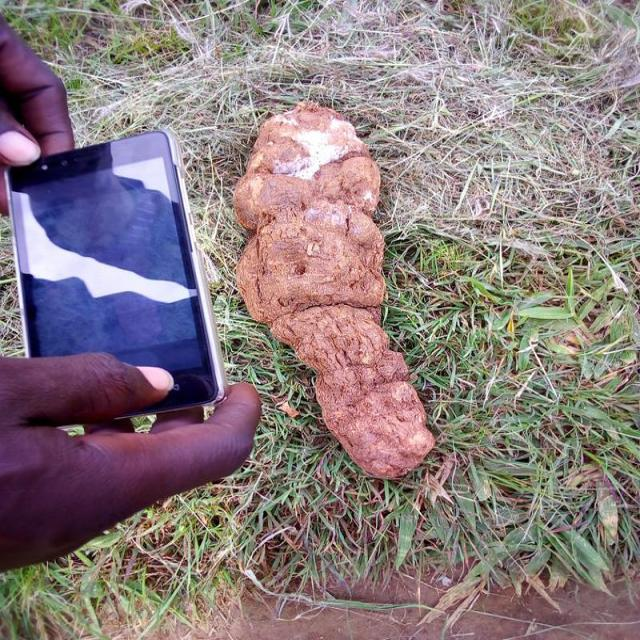cassava leaf: (232, 99, 436, 481)
